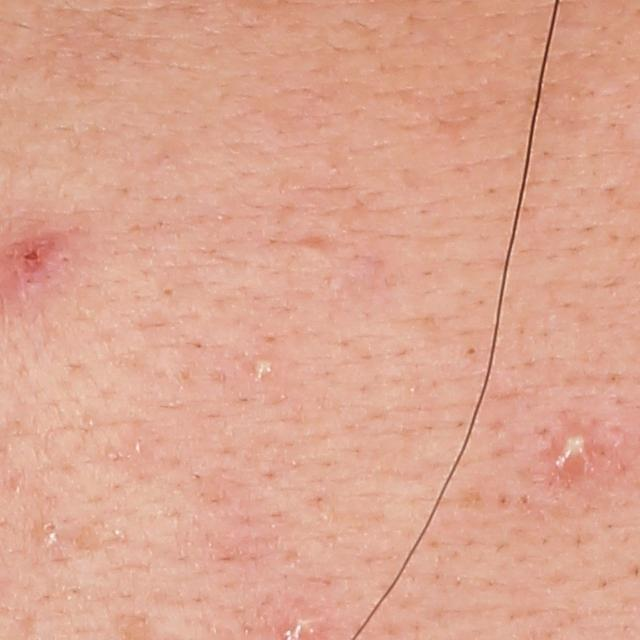comedo: (41, 519, 62, 552), (158, 283, 176, 304)
pustule: (550, 426, 596, 476), (245, 351, 276, 384)
